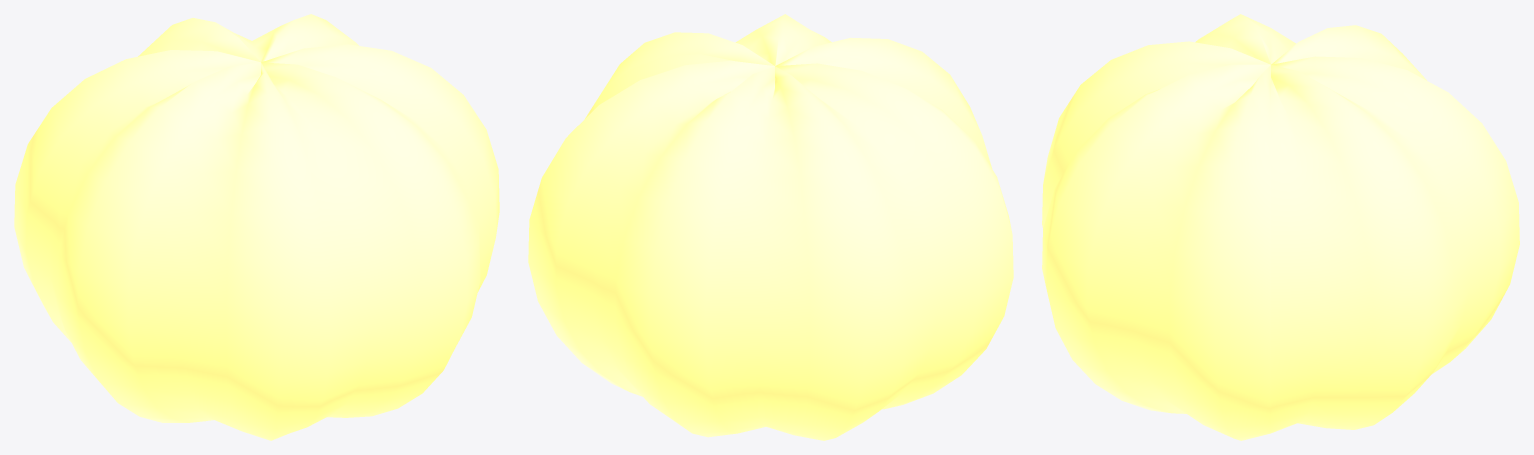
Rendered from spring.gltf.
The picture shows the model from 3 angles, left to right: view 1: azimuth 30°, elevation 25°; view 2: azimuth 150°, elevation 25°; view 3: azimuth 270°, elevation 25°; orthographic projection.
Parts seen in each view (by area): view 1: spring; view 2: spring; view 3: spring.
Part boxes in pixels (bbox=[...]): spring: bbox=[14, 14, 499, 440]; spring: bbox=[528, 14, 1013, 440]; spring: bbox=[1042, 14, 1519, 440].
Bounding box in the file's own units: 0.1183 × 0.092 × 0.1165.
